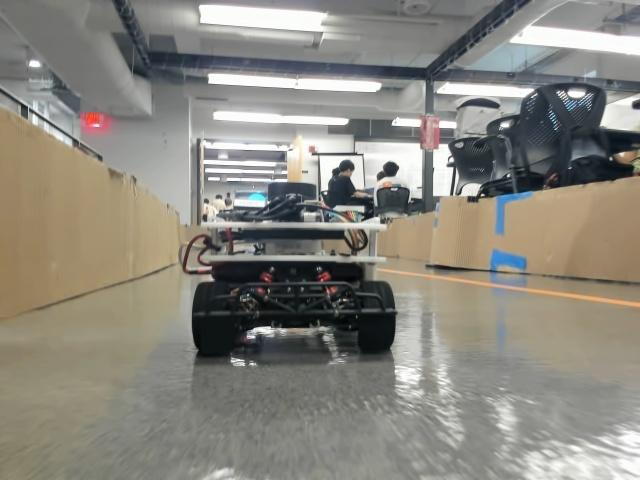Car: (183, 180, 394, 355)
